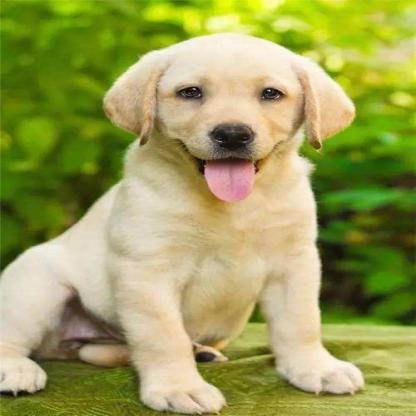dog: (0, 26, 360, 416)
